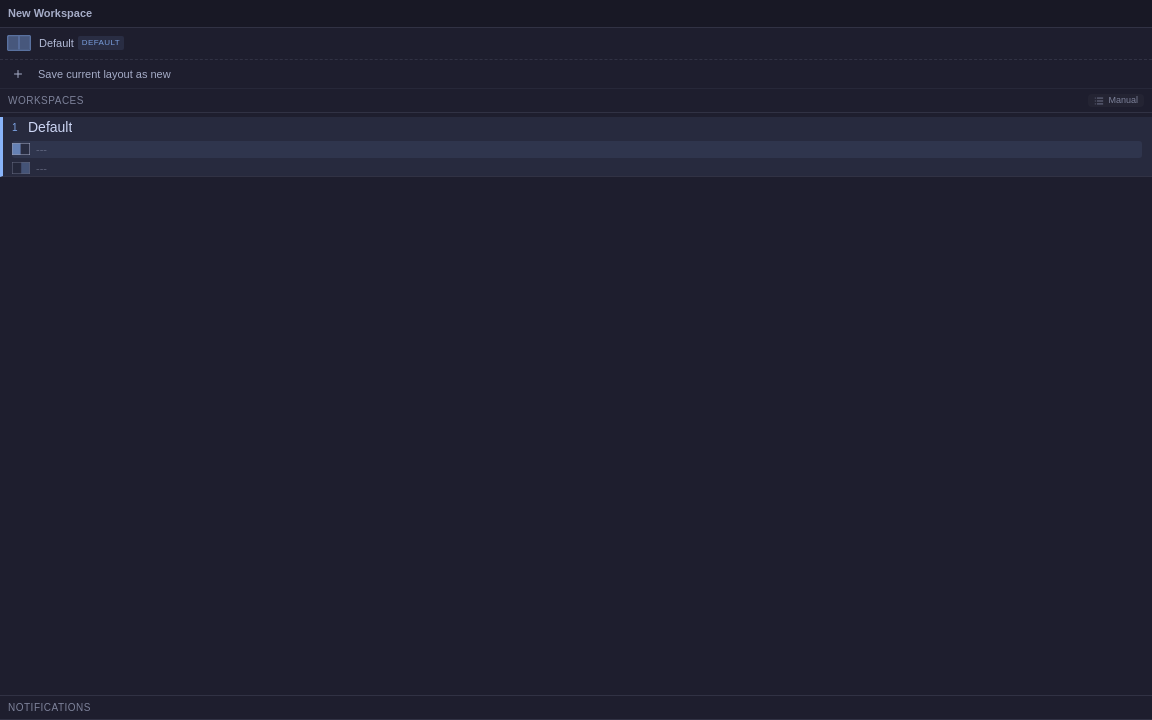
WorkspaceSelectorView › shows menu button on layout card hover
Hover over the element with test id "layout-card-default-layout": point(576, 43) [5, 35, 1147, 52]
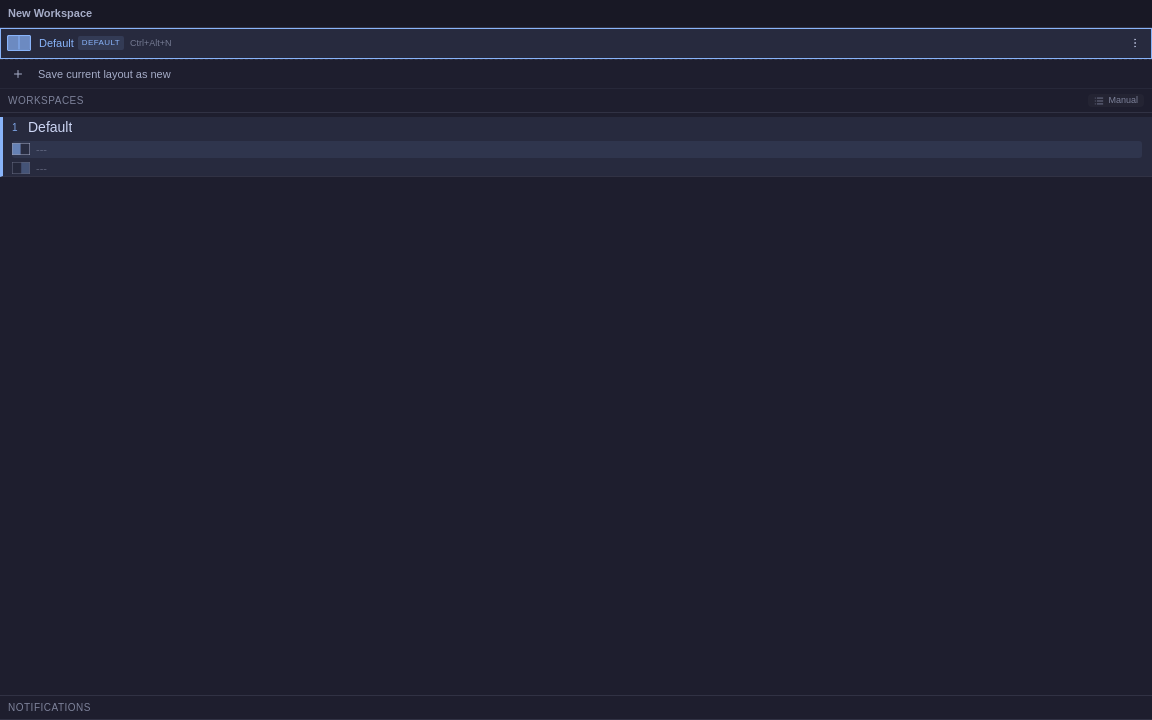
Result: the button with test id "layout-menu-default-layout" is shown at [1127, 35, 1143, 51]
